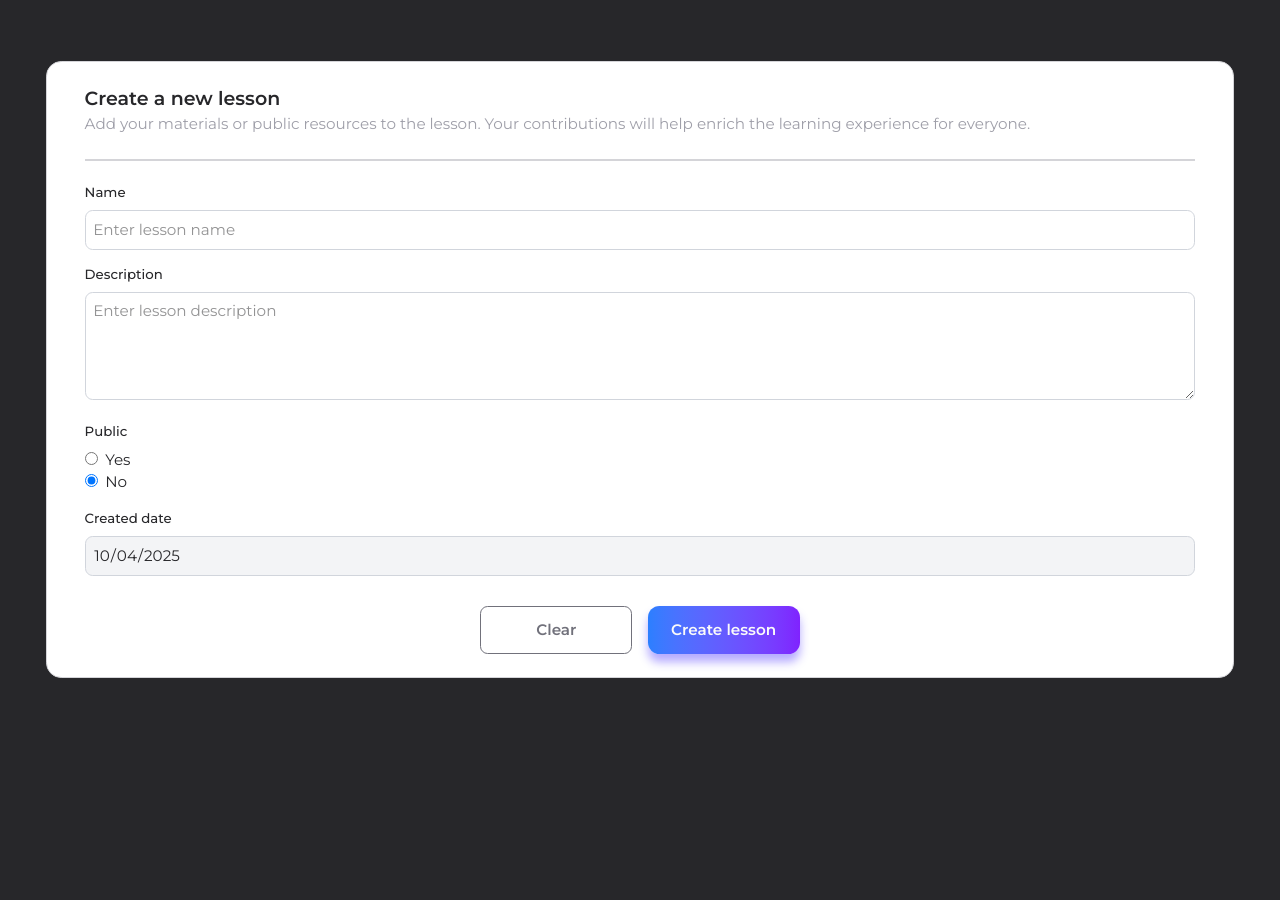
it: CreateLessonPage Component › Form Validation › should show error for empty description
Type "Test Lesson" into the field with placeholder "Enter lesson name" at (640, 230), box [85,210,1195,250]
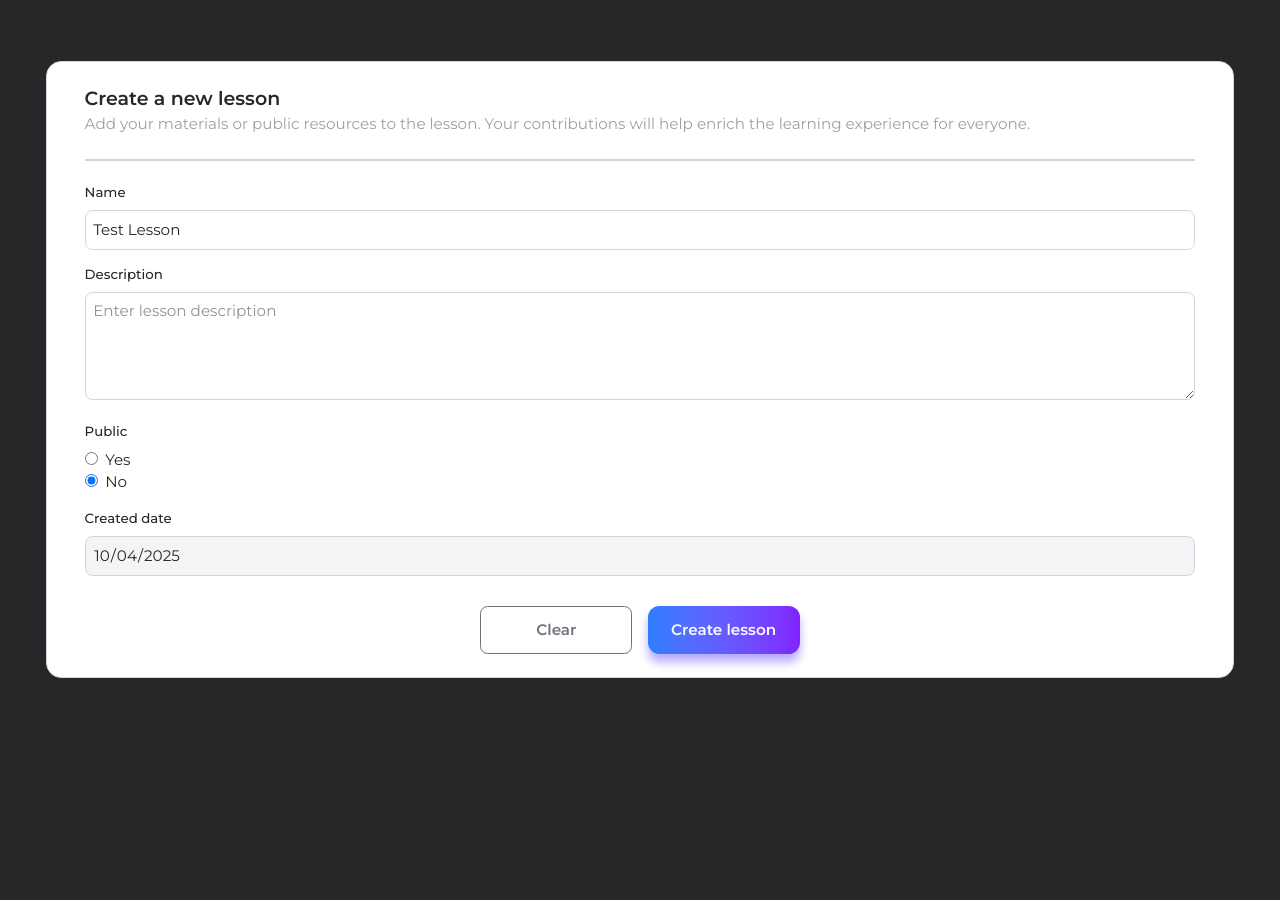
Click the button "Create lesson" at (724, 630), box [648,606,800,654]
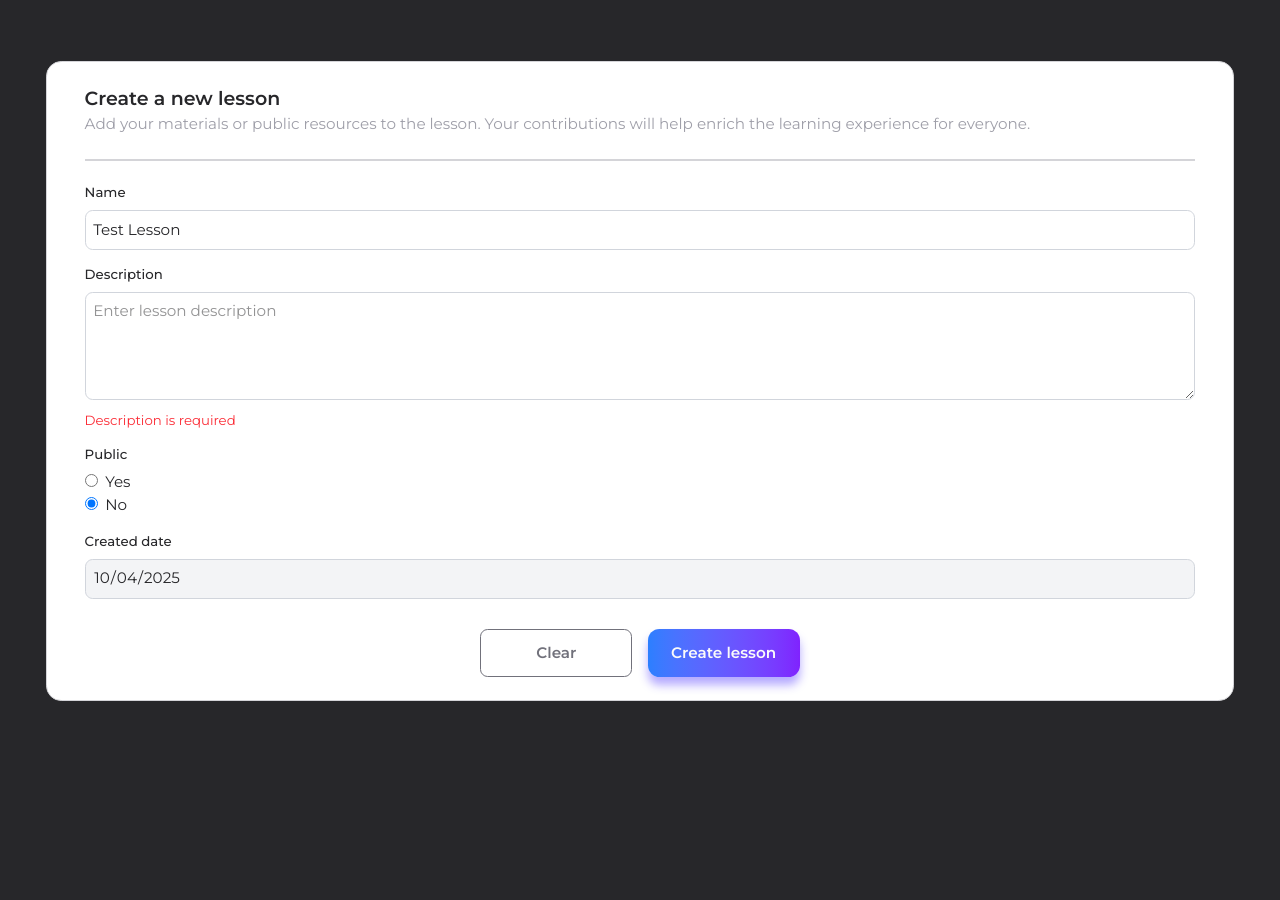
Expected: the text "Description is required" is shown, [85,412,236,428]
